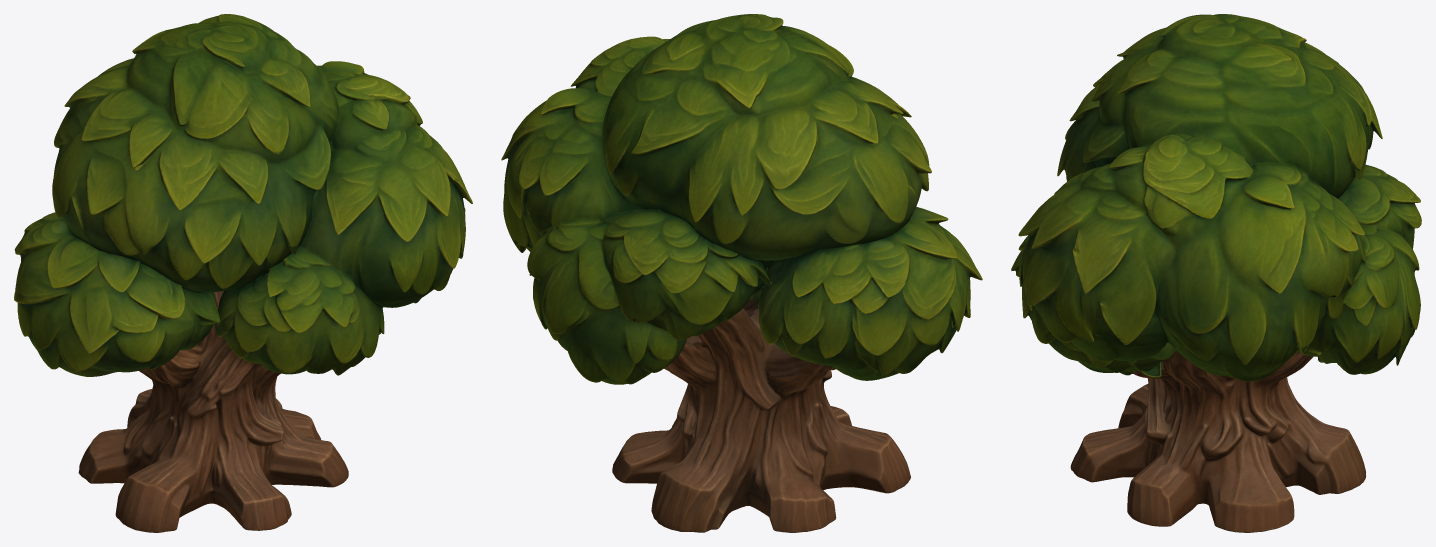
File: tree_a.glb
3 renders of one model, left to right at view 1: azimuth 30°, elevation 25°; view 2: azimuth 150°, elevation 25°; view 3: azimuth 270°, elevation 25°, orthographic. The views are drawn at different scales.
Size of the model in its own units: 0.9779 by 0.9988 by 0.8183.
Materials: 1 (1 with a texture image).
